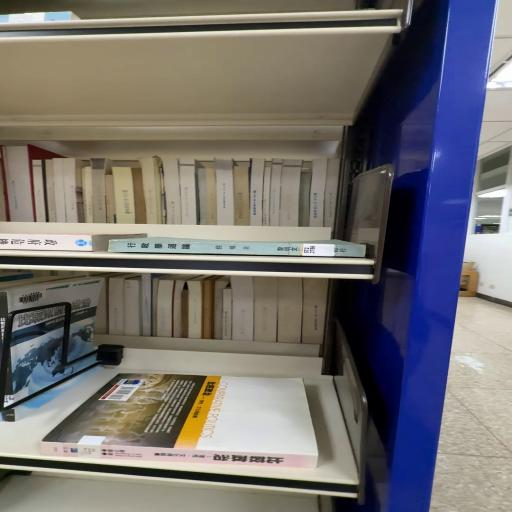flat: (42, 374, 319, 469), (110, 238, 367, 258), (1, 234, 147, 252)
